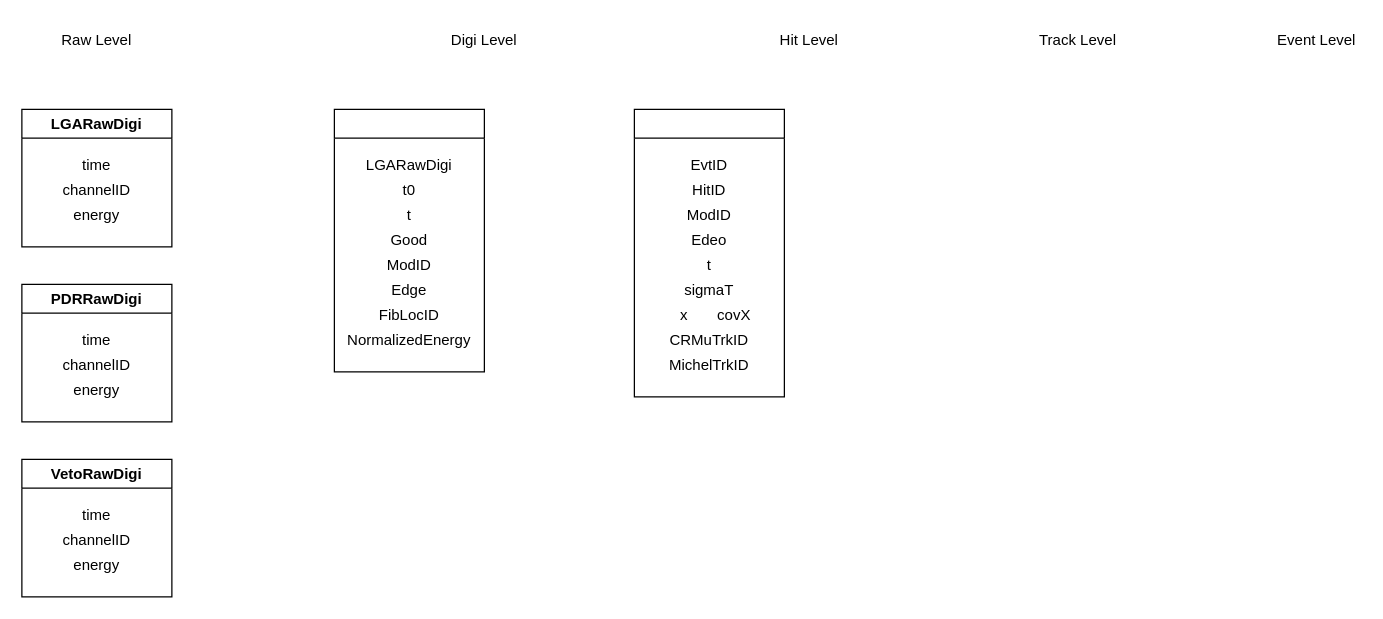
Some shapes in this 1383 by 619 pixel diagram are drawn without their labels. The shapes that lost their labels are listed below. From the top down, each one's box as (x1, y1, x2, y2) in pixels, then its label:
(333, 108, 484, 372): LGADigi
(633, 108, 784, 397): LGAHit
